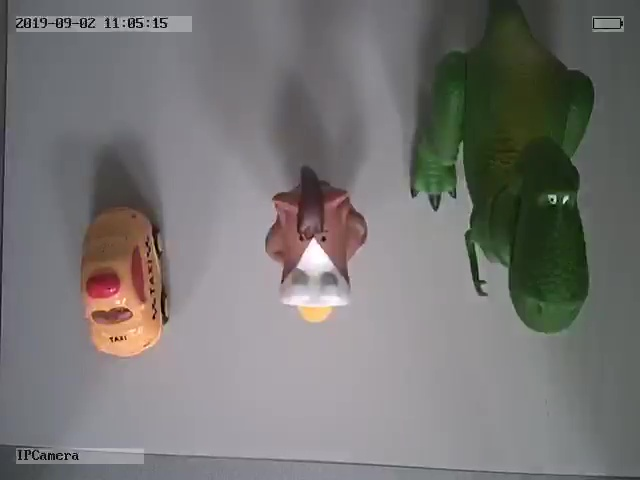car: (79, 206, 169, 358)
horse: (263, 166, 368, 323)
rex: (409, 6, 594, 336)
